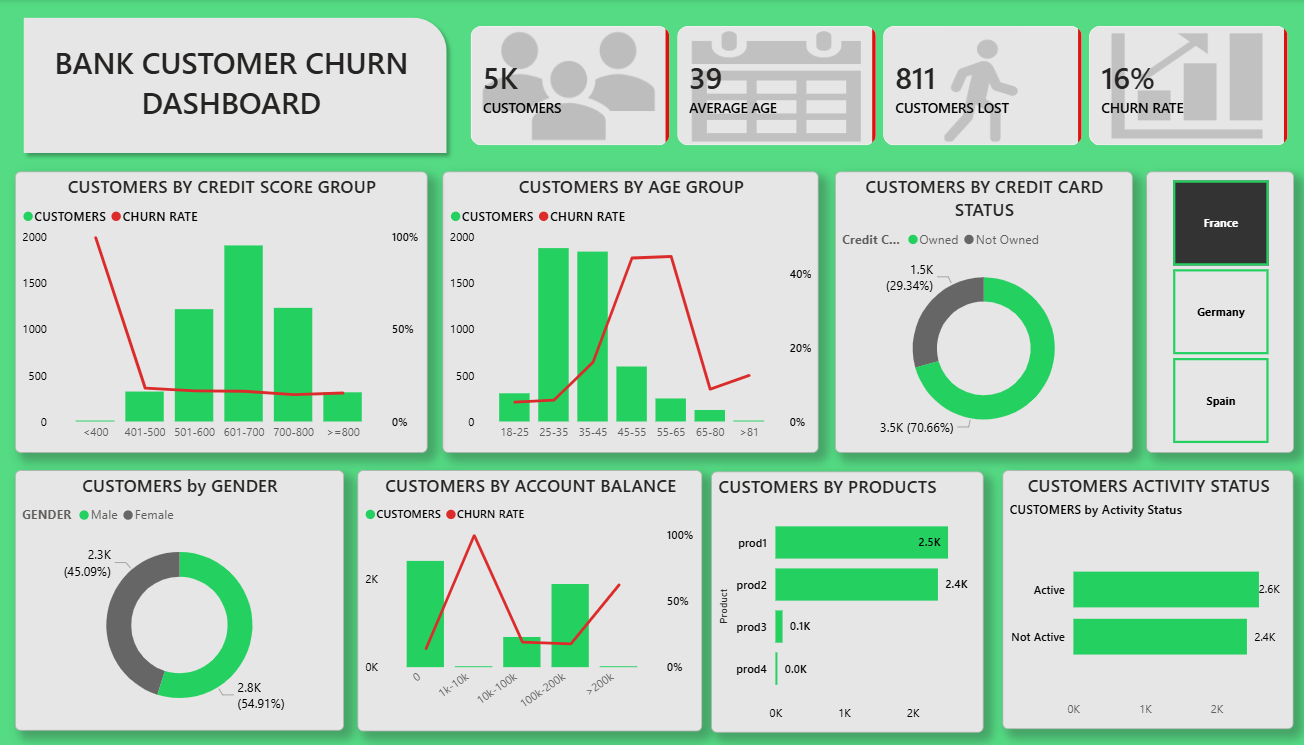

What the dashboard file says about the page in this screenshot:
{"tool":"powerbi","page":{"name":"Page 1","canvas":[1400,800],"ordinal":0},"visuals":[{"type":"cardVisual","fields":{"Data":["Customer Records.CUSTOMERS","Customer Records.AVERAGE AGE","Customer Records.CUSTOMERS LOST","Customer Records.CHURN RATE"]},"box":[487.9,12.1,911.5,162.2],"z":0},{"type":"lineClusteredColumnComboChart","title":"CHURN RATE BY AGE GROUP","fields":{"Y2":["Customer Records.CHURN RATE"],"Y":["Customer Records.CUSTOMERS"],"Category":["Age Groups.Age Group"]},"box":[406.2,185,471.9,301.6],"z":1000},{"type":"donutChart","fields":{"Y":["Customer Records.CUSTOMERS"],"Category":["Customer Records.Gender"]},"box":[16.1,185,374,301.6],"z":2000},{"type":"lineClusteredColumnComboChart","title":"CHURN RATE BY CREDIT SCORE GROUP","fields":{"Y":["Customer Records.CUSTOMERS"],"Y2":["Customer Records.CHURN RATE"],"Category":["Credit score Group.Credit Score"]},"box":[687.7,508,367.3,274.8],"z":3000},{"type":"lineClusteredColumnComboChart","title":"CHURN RATE BY ACCOUNT BALANCE","fields":{"Y2":["Customer Records.CHURN RATE"],"Y":["Customer Records.CUSTOMERS"],"Category":["Account Balance Group.Account Balance"]},"box":[343.2,506.7,332.4,276.1],"z":4000},{"type":"slicer","fields":{"Values":["Customer Records.Geography"]},"box":[1229.2,185,158.2,301.6],"z":5000},{"type":"donutChart","title":"CUSTOMERS BY PRODUCTS","fields":{"Category":["Customer Records.Product"],"Y":["Customer Records.CUSTOMERS"]},"box":[1069.7,508,317.7,274.8],"z":6000},{"type":"barChart","title":"CUSTOMERS ACTIVITY STATUS","fields":{"Category":["Customer Records.Activity Status"],"Y":["Customer Records.CUSTOMERS"]},"box":[16.1,508,316.4,274.8],"z":7000},{"type":"funnel","title":"CUSTOMERS BY CREDIT CARD STATUS","fields":{"Y":["Customer Records.CUSTOMERS"],"Category":["Customer Records.Credit Card Status"]},"box":[895.4,185,319,301.6],"z":8000},{"type":"shape","box":[16.1,10.7,471.9,163.5],"z":9000},{"type":"textbox","box":[49.6,41.6,396.8,111.3],"z":10000}]}

Visuals, with their boxes in screenshot pixels (x1, y1, x2, y2), scaled from the page's 1400x800 canvas onto the 1304x745 screenshot:
cardVisual - Customer Records.CUSTOMERS x Customer Records.AVERAGE AGE: rect(454, 11, 1303, 162)
"CHURN RATE BY AGE GROUP" lineClusteredColumnComboChart: rect(378, 172, 818, 453)
donutChart - Customer Records.CUSTOMERS x Customer Records.Gender: rect(15, 172, 363, 453)
"CHURN RATE BY CREDIT SCORE GROUP" lineClusteredColumnComboChart: rect(641, 473, 983, 729)
"CHURN RATE BY ACCOUNT BALANCE" lineClusteredColumnComboChart: rect(320, 472, 629, 729)
slicer - Customer Records.Geography: rect(1145, 172, 1292, 453)
"CUSTOMERS BY PRODUCTS" donutChart: rect(996, 473, 1292, 729)
"CUSTOMERS ACTIVITY STATUS" barChart: rect(15, 473, 310, 729)
"CUSTOMERS BY CREDIT CARD STATUS" funnel: rect(834, 172, 1131, 453)
shape: rect(15, 10, 455, 162)
textbox: rect(46, 39, 416, 142)
